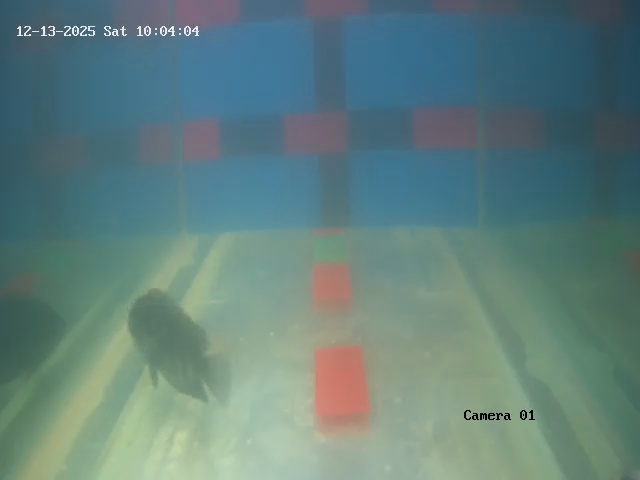fish: (124, 288, 216, 394)
